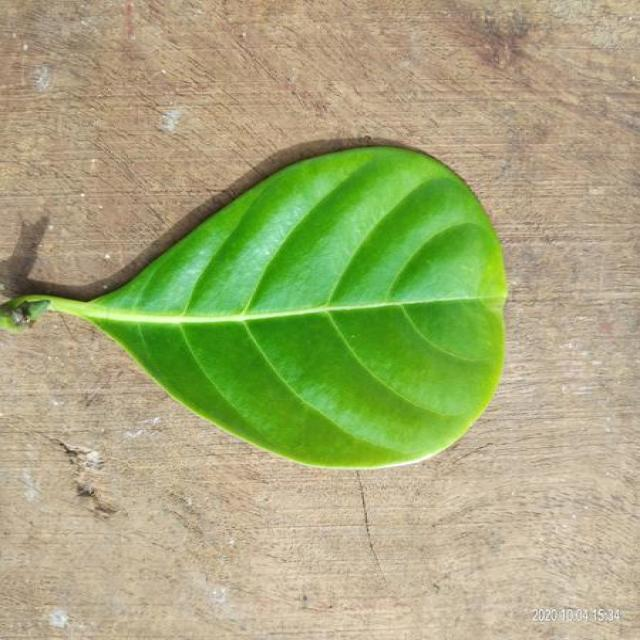Jackfruit: (52, 148, 505, 468)
